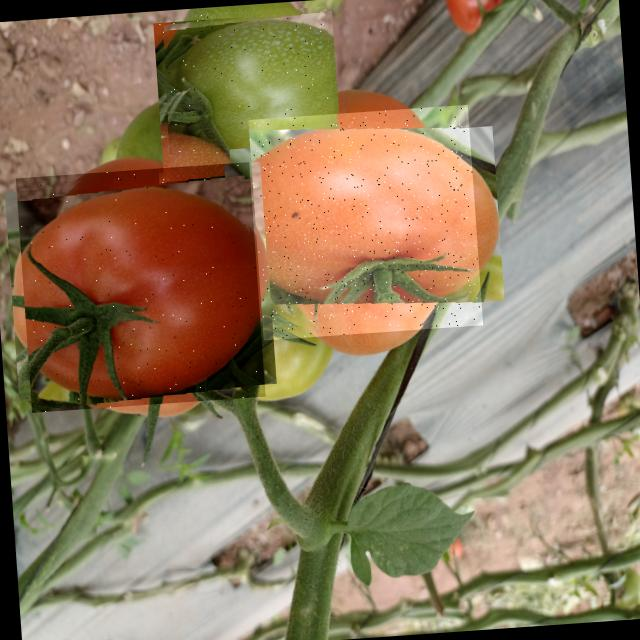Ripe Tomato: (16, 162, 266, 412), (248, 104, 483, 340)
Unripe Tomato: (158, 5, 338, 184)
